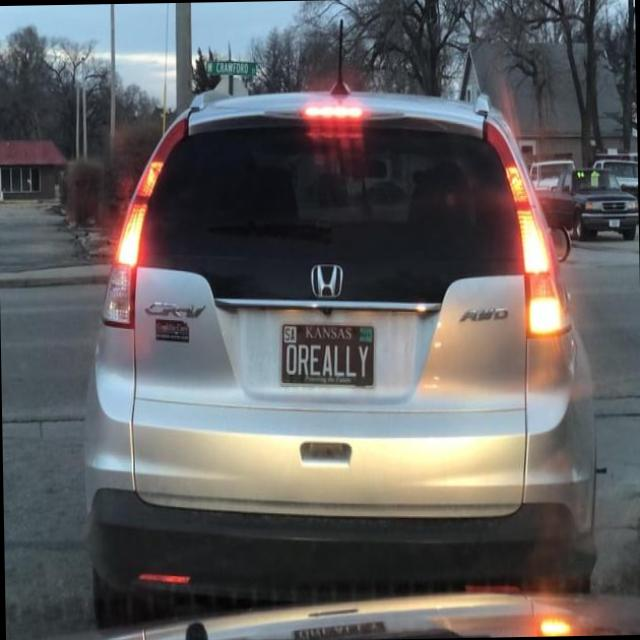LicensePlate: (278, 321, 376, 388)
